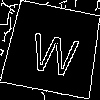W: (27, 24, 82, 78)
